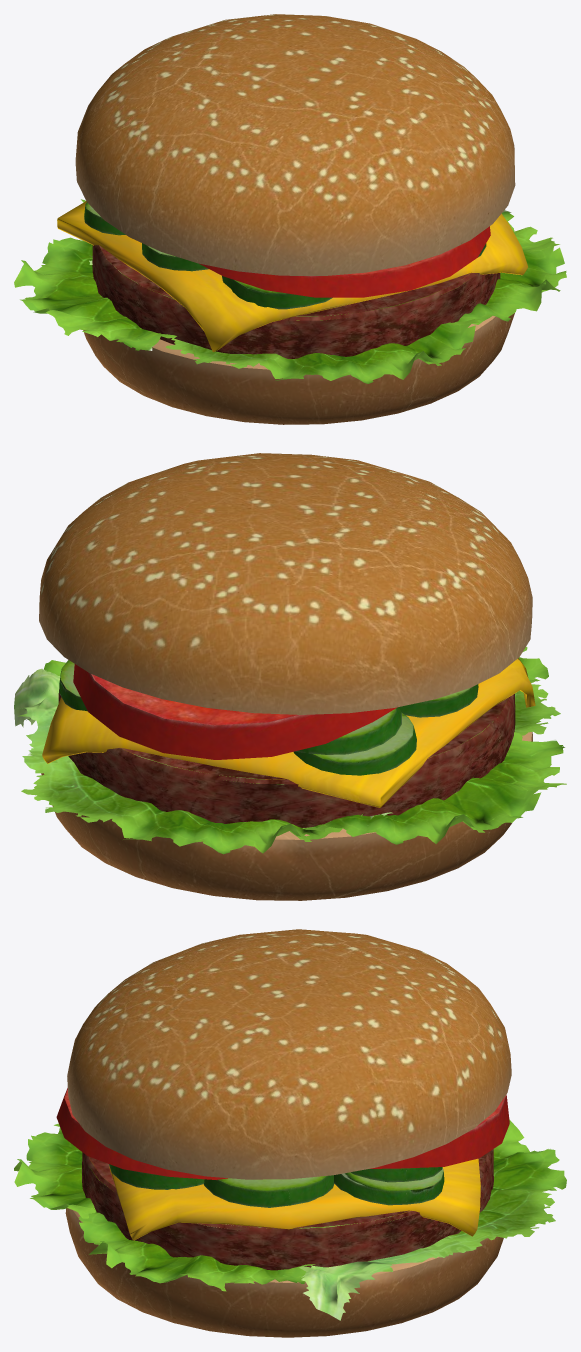
Rendered from golden-oak-burger-balanced.glb.
3 views of the same model, one above another, from view 1: azimuth 30°, elevation 25°; view 2: azimuth 150°, elevation 25°; view 3: azimuth 270°, elevation 25° (orthographic). The views are drawn at different scales.
Parts seen in each view (by area): view 1: bun_bun_001_0, vegeis_vegies_001_0, pPlane16_lettuce_001_0, pPlane17_lettuce_001_0, pPlane14_lettuce_001_0; view 2: bun_bun_001_0, vegeis_vegies_001_0, pPlane15_lettuce_001_0, pPlane16_lettuce_001_0, pPlane17_lettuce_001_0; view 3: bun_bun_001_0, vegeis_vegies_001_0, pPlane15_lettuce_001_0, pPlane14_lettuce_001_0, pPlane17_lettuce_001_0.
Boxes of the visible parts, x1,y1,x2,y2 form: bun_bun_001_0: [57, 14, 527, 424]; vegeis_vegies_001_0: [84, 202, 490, 309]; pPlane16_lettuce_001_0: [14, 237, 176, 350]; pPlane17_lettuce_001_0: [89, 255, 480, 383]; pPlane14_lettuce_001_0: [297, 211, 566, 324]; bun_bun_001_0: [39, 453, 535, 900]; vegeis_vegies_001_0: [59, 660, 478, 775]; pPlane15_lettuce_001_0: [14, 668, 362, 854]; pPlane16_lettuce_001_0: [219, 724, 566, 844]; pPlane17_lettuce_001_0: [370, 646, 560, 819]; bun_bun_001_0: [65, 929, 511, 1337]; vegeis_vegies_001_0: [56, 1088, 509, 1207]; pPlane15_lettuce_001_0: [299, 1119, 566, 1320]; pPlane14_lettuce_001_0: [78, 1208, 360, 1291]; pPlane17_lettuce_001_0: [14, 1123, 110, 1218].
Size of the model in its own units: 4.7 by 2.73 by 4.75.
Materials: 3 (3 with a texture image).
